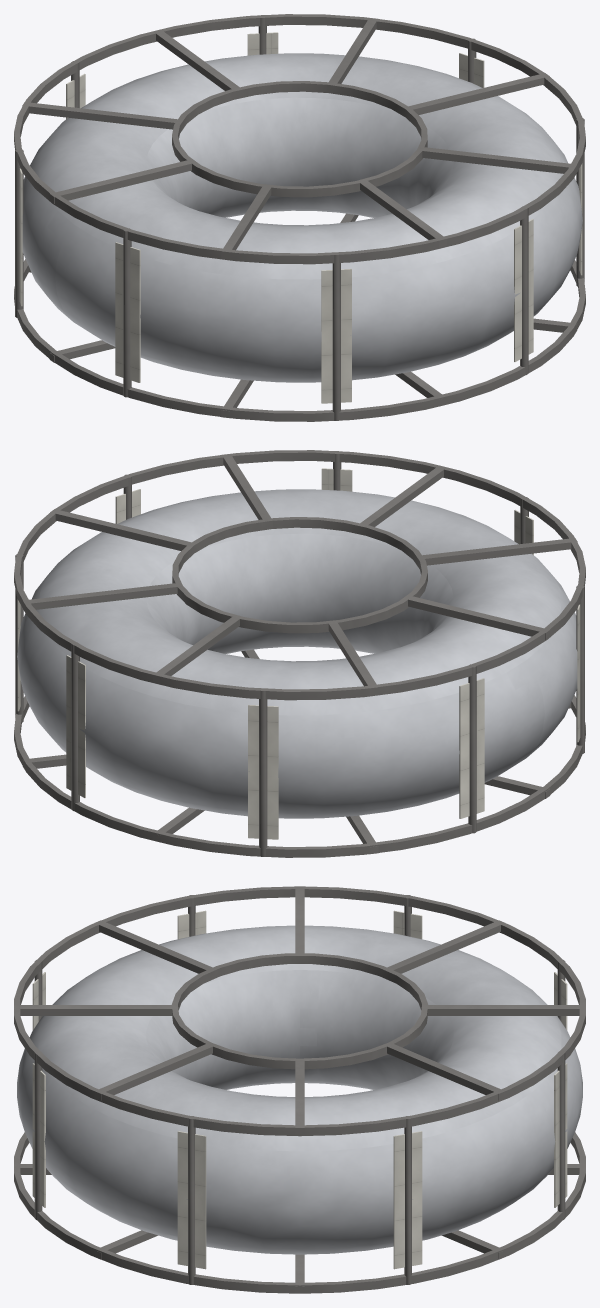
File: tank11_toroidal_tank_l.glb
The picture shows the model from 3 angles, top to bottom: view 1: azimuth 30°, elevation 25°; view 2: azimuth 150°, elevation 25°; view 3: azimuth 270°, elevation 25°; orthographic projection.
Visible parts, largest first — view 1: torus, band_rings, struts, insulation, posts; view 2: torus, band_rings, struts, insulation, posts; view 3: torus, band_rings, struts, insulation, posts.
Boxes of the visible parts, <box> form: torus: <box>22,53,582,382</box>; band_rings: <box>14,14,585,421</box>; struts: <box>22,18,577,418</box>; insulation: <box>19,32,582,403</box>; posts: <box>15,15,584,420</box>; torus: <box>17,489,577,818</box>; band_rings: <box>14,450,585,857</box>; struts: <box>22,454,577,854</box>; insulation: <box>17,468,580,839</box>; posts: <box>15,451,584,856</box>; torus: <box>17,925,582,1254</box>; band_rings: <box>14,886,585,1293</box>; struts: <box>14,886,585,1293</box>; insulation: <box>32,910,567,1269</box>; posts: <box>34,895,565,1284</box>.
Size of the model in its own units: 3.75 by 1.21 by 3.75.
4 materials, 4 textured.
